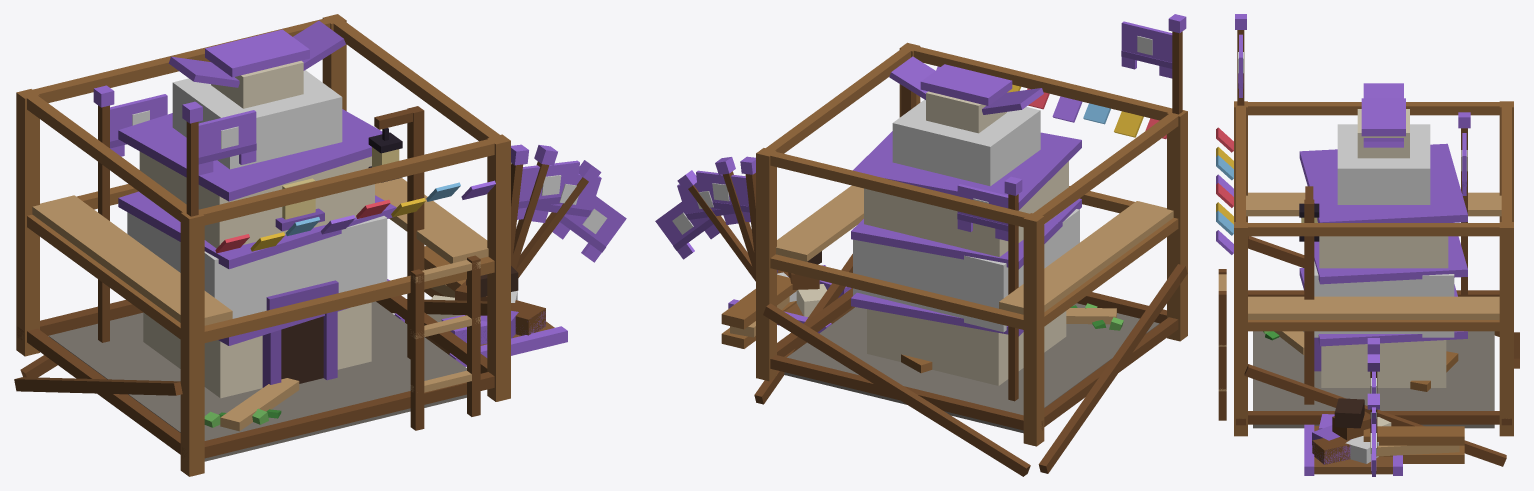
The model's file is moth-home.glb.
3 views of the same model, side by side, from view 1: azimuth 30°, elevation 25°; view 2: azimuth 150°, elevation 25°; view 3: azimuth 270°, elevation 25° (orthographic). The views are drawn at different scales.
Parts seen in each view (by area): view 1: scaffold-mesh, built-mesh, dismantle-50-mesh, dismantle-75-mesh, scaffold-banner, dismantle-25-banner, dismantle-25-mesh, flag-pole, dismantle-75-banner, banner, scaffold-flag-pole, dismantle-25-flag-pole (+3 smaller); view 2: scaffold-mesh, built-mesh, dismantle-50-mesh, dismantle-75-mesh, scaffold-banner, flag-pole, dismantle-25-mesh, dismantle-25-banner, dismantle-75-banner, banner, dismantle-25-flag-pole, scaffold-flag-pole (+3 smaller); view 3: scaffold-mesh, built-mesh, dismantle-75-mesh, dismantle-50-mesh, dismantle-25-mesh, flag-pole, scaffold-flag-pole, banner, scaffold-banner.
Part boxes in pixels (x1,y1,x2,y2): scaffold-mesh: [14, 14, 510, 476]; built-mesh: [118, 20, 424, 425]; dismantle-50-mesh: [49, 261, 567, 459]; dismantle-75-mesh: [118, 156, 567, 461]; scaffold-banner: [198, 110, 256, 175]; dismantle-25-banner: [552, 194, 626, 262]; dismantle-25-mesh: [208, 266, 567, 459]; flag-pole: [93, 85, 114, 342]; dismantle-75-banner: [517, 160, 579, 219]; banner: [110, 94, 167, 156]; scaffold-flag-pole: [182, 101, 202, 216]; dismantle-25-flag-pole: [516, 160, 601, 277]; scaffold-mesh: [721, 42, 1187, 476]; built-mesh: [851, 56, 1122, 329]; dismantle-50-mesh: [728, 270, 1159, 433]; dismantle-75-mesh: [728, 199, 1123, 431]; scaffold-banner: [1121, 21, 1172, 78]; flag-pole: [1004, 176, 1022, 401]; dismantle-25-mesh: [728, 251, 1116, 432]; dismantle-25-banner: [655, 195, 719, 259]; dismantle-75-banner: [696, 170, 750, 222]; banner: [957, 184, 1008, 240]; dismantle-25-flag-pole: [677, 170, 755, 281]; scaffold-flag-pole: [1168, 14, 1186, 114]; scaffold-mesh: [1216, 101, 1519, 466]; built-mesh: [1299, 83, 1467, 346]; dismantle-75-mesh: [1267, 254, 1467, 475]; dismantle-50-mesh: [1253, 268, 1494, 472]; dismantle-25-mesh: [1275, 331, 1458, 473]; flag-pole: [1458, 112, 1470, 296]; scaffold-flag-pole: [1235, 14, 1246, 105]; banner: [1461, 133, 1467, 195]; scaffold-banner: [1238, 34, 1243, 97].
Size of the model in its own units: 2.45 by 1.78 by 1.51.
